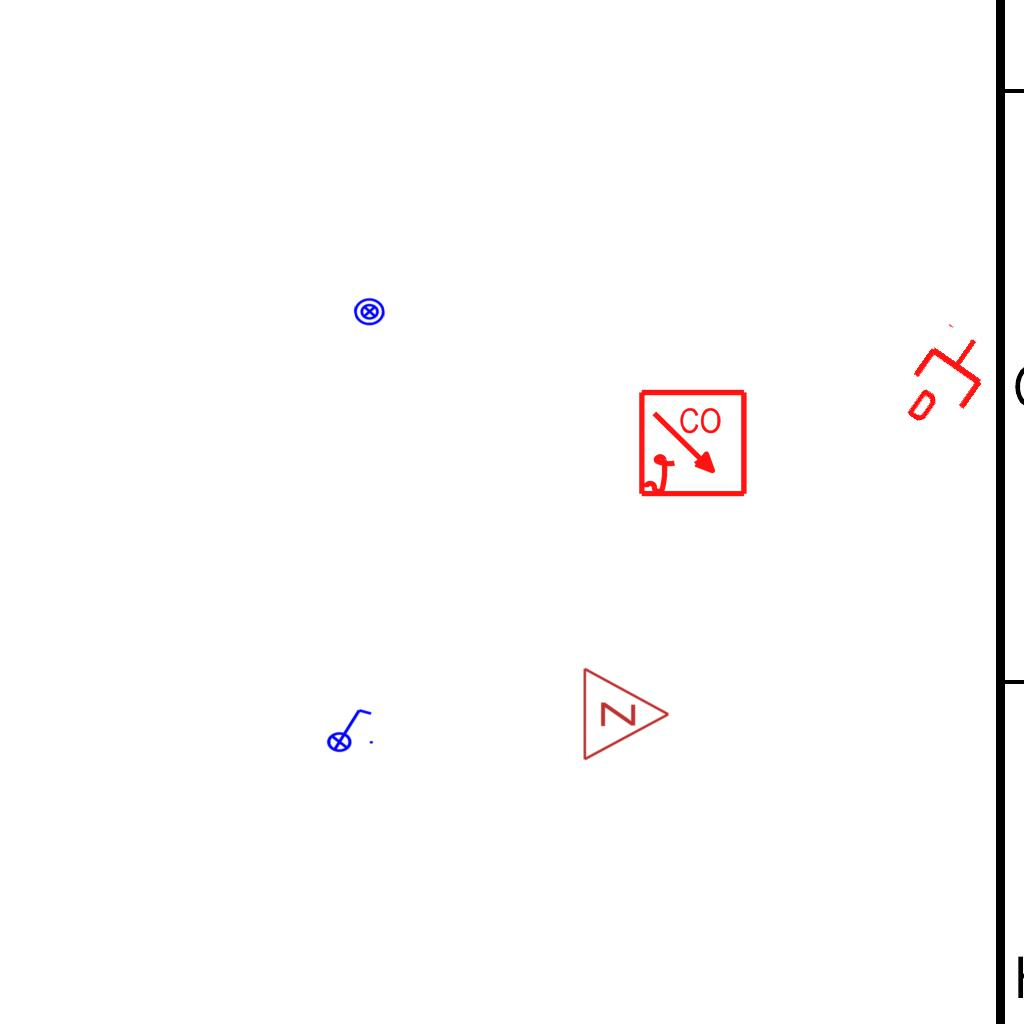Ausschalter_beleuchtet: (320, 705, 376, 753)
Datenanschluss_einfach: (889, 319, 1004, 441)
ROA_Rauchmelder_optisch_mit_Signalgeber_(Sockelsirene): (637, 388, 750, 501)
Taster_beleuchtet: (352, 294, 387, 329)
Zimmersignalleuchte: (576, 664, 676, 762)
